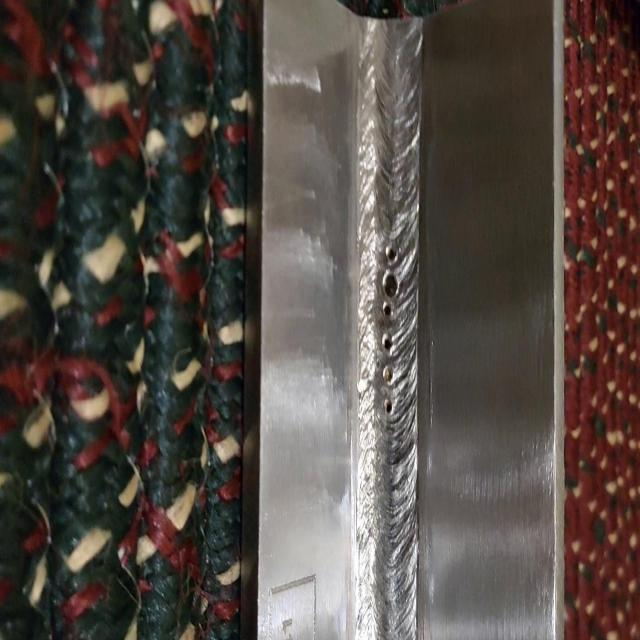Welding Line: (358, 19, 421, 640)
Workpiece: (252, 6, 558, 640)
porosity: (382, 245, 401, 416)
